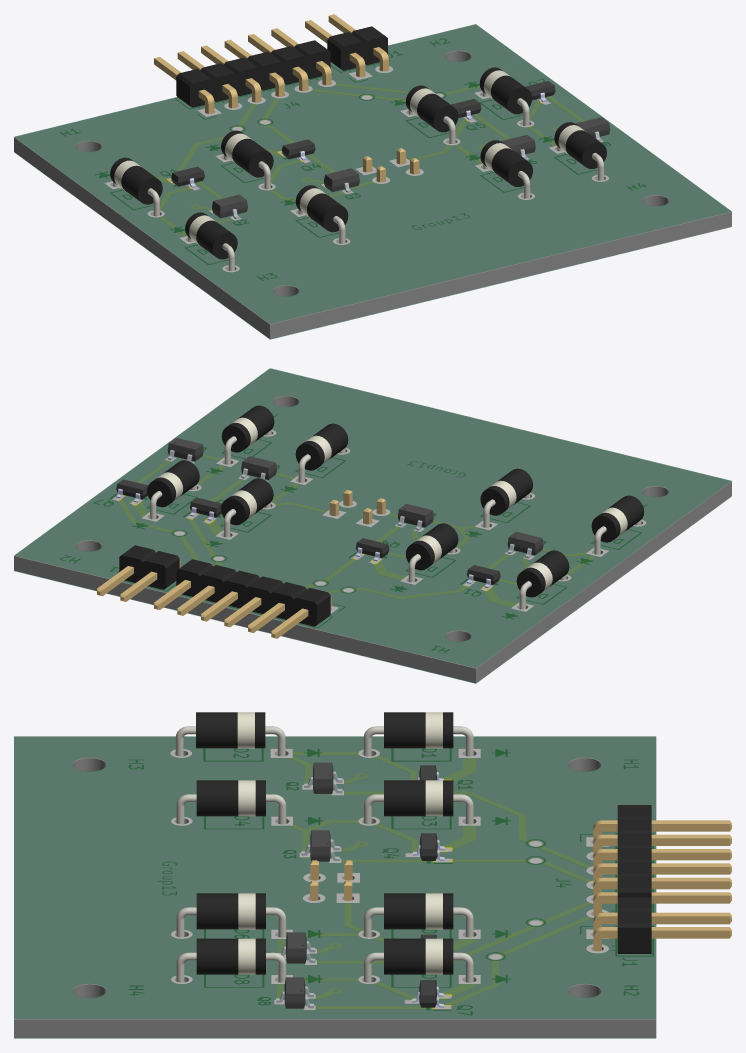
File: line-follower-h-bridge-v2.glb
3 views of the same model, one above another, from view 1: azimuth 30°, elevation 25°; view 2: azimuth 150°, elevation 25°; view 3: azimuth 270°, elevation 25° (orthographic). The views are drawn at different scales.
Visible parts, largest first — view 1: =>[0:1:1:13], =>[0:1:1:12], J4, =>[0:1:1:11], J1, =>[0:1:1:9], =>[0:1:1:8], D8, D5, D7, D4, D3 (+4 smaller); view 2: =>[0:1:1:13], =>[0:1:1:12], J4, =>[0:1:1:8], =>[0:1:1:11], J1, =>[0:1:1:2] (×4), =>[0:1:1:9], D5, D2, D6, D1 (+8 smaller); view 3: =>[0:1:1:12], =>[0:1:1:13], J4, =>[0:1:1:8], J1, =>[0:1:1:11], =>[0:1:1:9], D1, D4, D2, D5, D3 (+6 smaller).
Part boxes in pixels (left/top/right/bottom): =>[0:1:1:13]: left=14, top=25, right=731, bottom=338; =>[0:1:1:12]: left=14, top=24, right=731, bottom=339; J4: left=154, top=28, right=331, bottom=113; =>[0:1:1:11]: left=59, top=38, right=646, bottom=280; J1: left=305, top=14, right=388, bottom=77; =>[0:1:1:9]: left=104, top=66, right=608, bottom=272; =>[0:1:1:8]: left=156, top=84, right=583, bottom=236; D8: left=554, top=122, right=606, bottom=180; D5: left=405, top=85, right=458, bottom=143; D7: left=479, top=67, right=532, bottom=125; D4: left=295, top=185, right=348, bottom=243; D3: left=221, top=130, right=273, bottom=189; =>[0:1:1:13]: left=14, top=369, right=731, bottom=683; =>[0:1:1:12]: left=14, top=368, right=731, bottom=683; J4: left=154, top=559, right=331, bottom=638; =>[0:1:1:8]: left=118, top=455, right=594, bottom=606; =>[0:1:1:11]: left=60, top=413, right=647, bottom=653; J1: left=97, top=545, right=180, bottom=601; =>[0:1:1:2] (×4): left=167, top=438, right=543, bottom=555; =>[0:1:1:9]: left=113, top=430, right=645, bottom=613; D5: left=221, top=478, right=273, bottom=537; D2: left=591, top=495, right=644, bottom=554; D6: left=295, top=423, right=348, bottom=482; D1: left=516, top=550, right=569, bottom=609; =>[0:1:1:12]: left=14, top=736, right=656, bottom=1038; =>[0:1:1:13]: left=14, top=737, right=656, bottom=1037; J4: left=593, top=805, right=731, bottom=915; =>[0:1:1:8]: left=277, top=752, right=591, bottom=1009; J1: left=593, top=897, right=731, bottom=953; =>[0:1:1:11]: left=128, top=748, right=653, bottom=1015; =>[0:1:1:9]: left=170, top=749, right=608, bottom=1009; D1: left=363, top=712, right=473, bottom=756; D4: left=176, top=780, right=286, bottom=824; D2: left=175, top=712, right=285, bottom=756; D5: left=363, top=893, right=473, bottom=937; D3: left=363, top=780, right=473, bottom=824.
Size of the model in its own units: 0.05 by 0.0134 by 0.0537.
